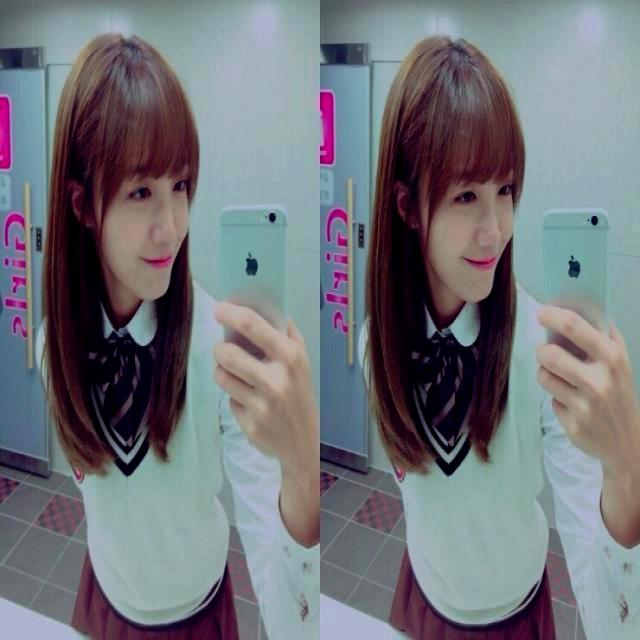lens: (267, 209, 277, 225), (590, 215, 599, 227)
phone: (542, 207, 617, 370), (218, 208, 290, 368)
